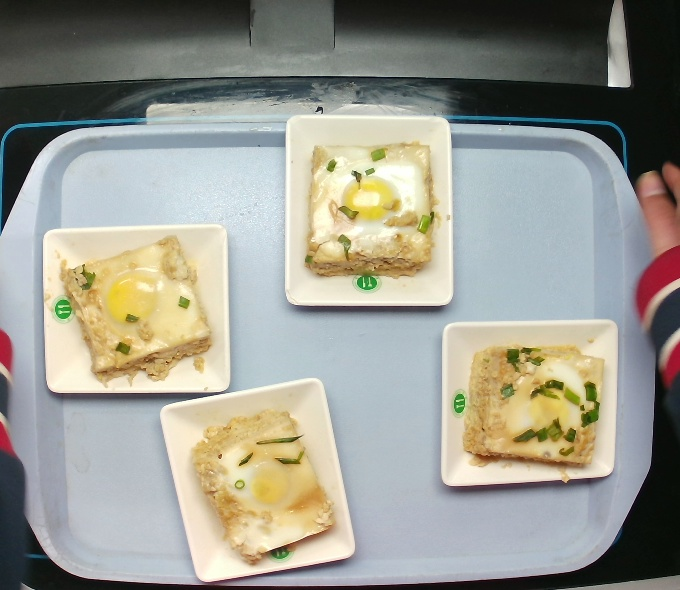wcq-RouMoZhengDan: (457, 323, 604, 488), (186, 403, 327, 570), (65, 232, 213, 389), (299, 130, 441, 293)
